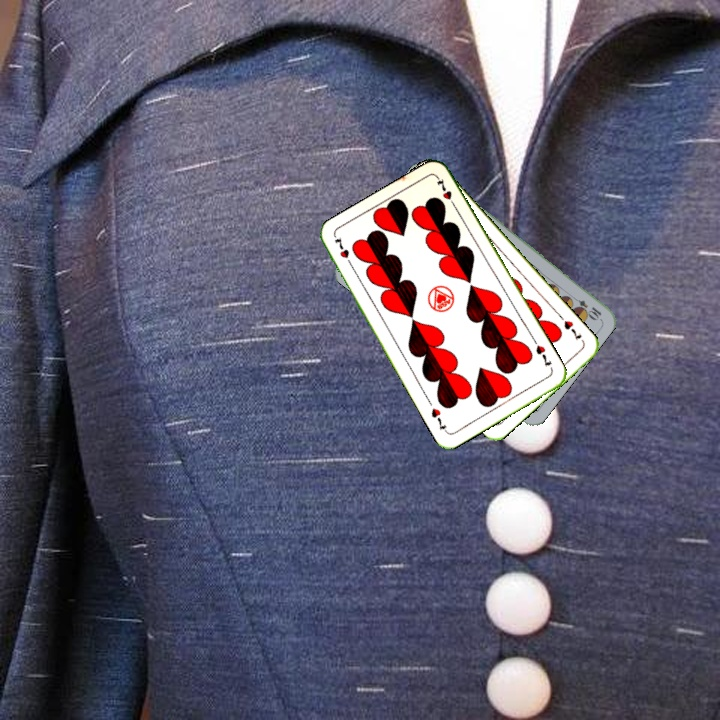E10: (567, 292, 604, 322)
H7: (330, 232, 356, 270), (555, 311, 585, 343), (532, 341, 554, 369)
